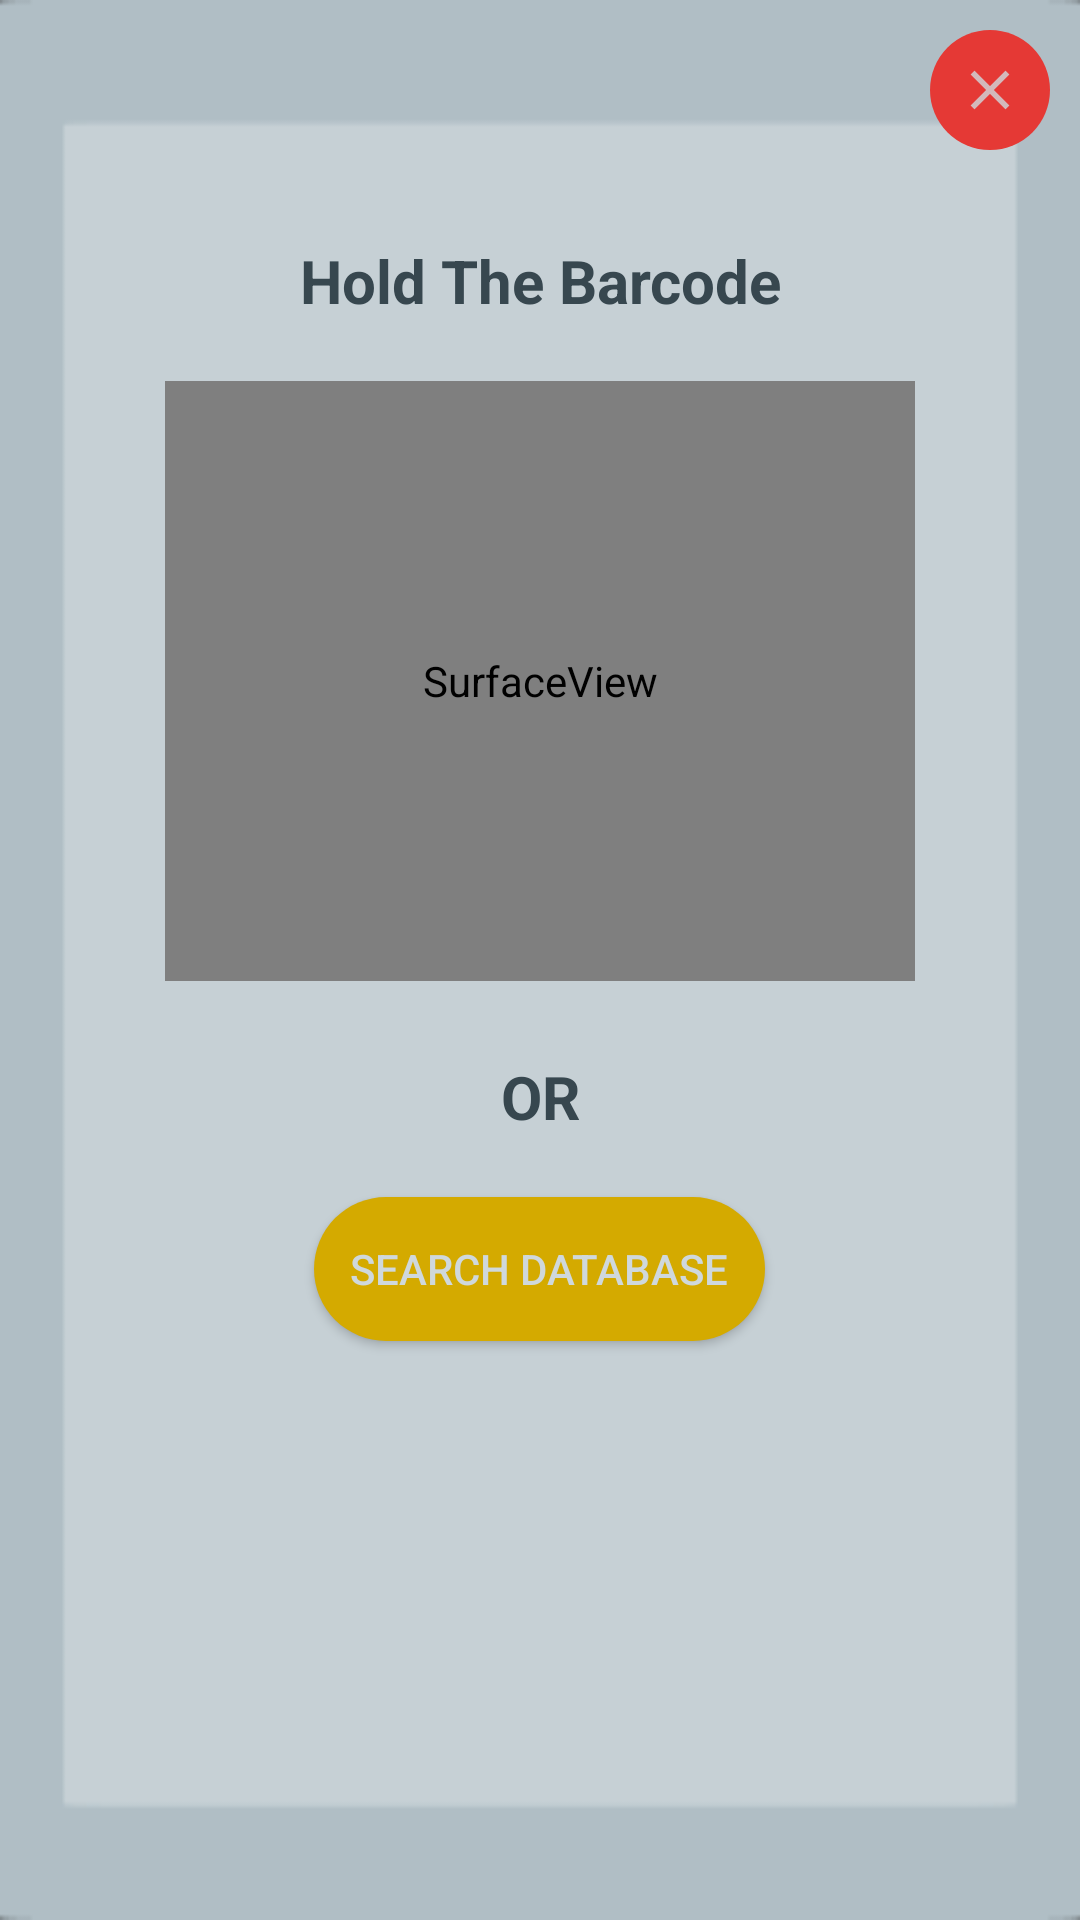

Icon bounding boxes for this 1080 x 1920 phone screenshot, format (x1, y1, x2, y2):
Close: (930, 30, 1050, 150)
